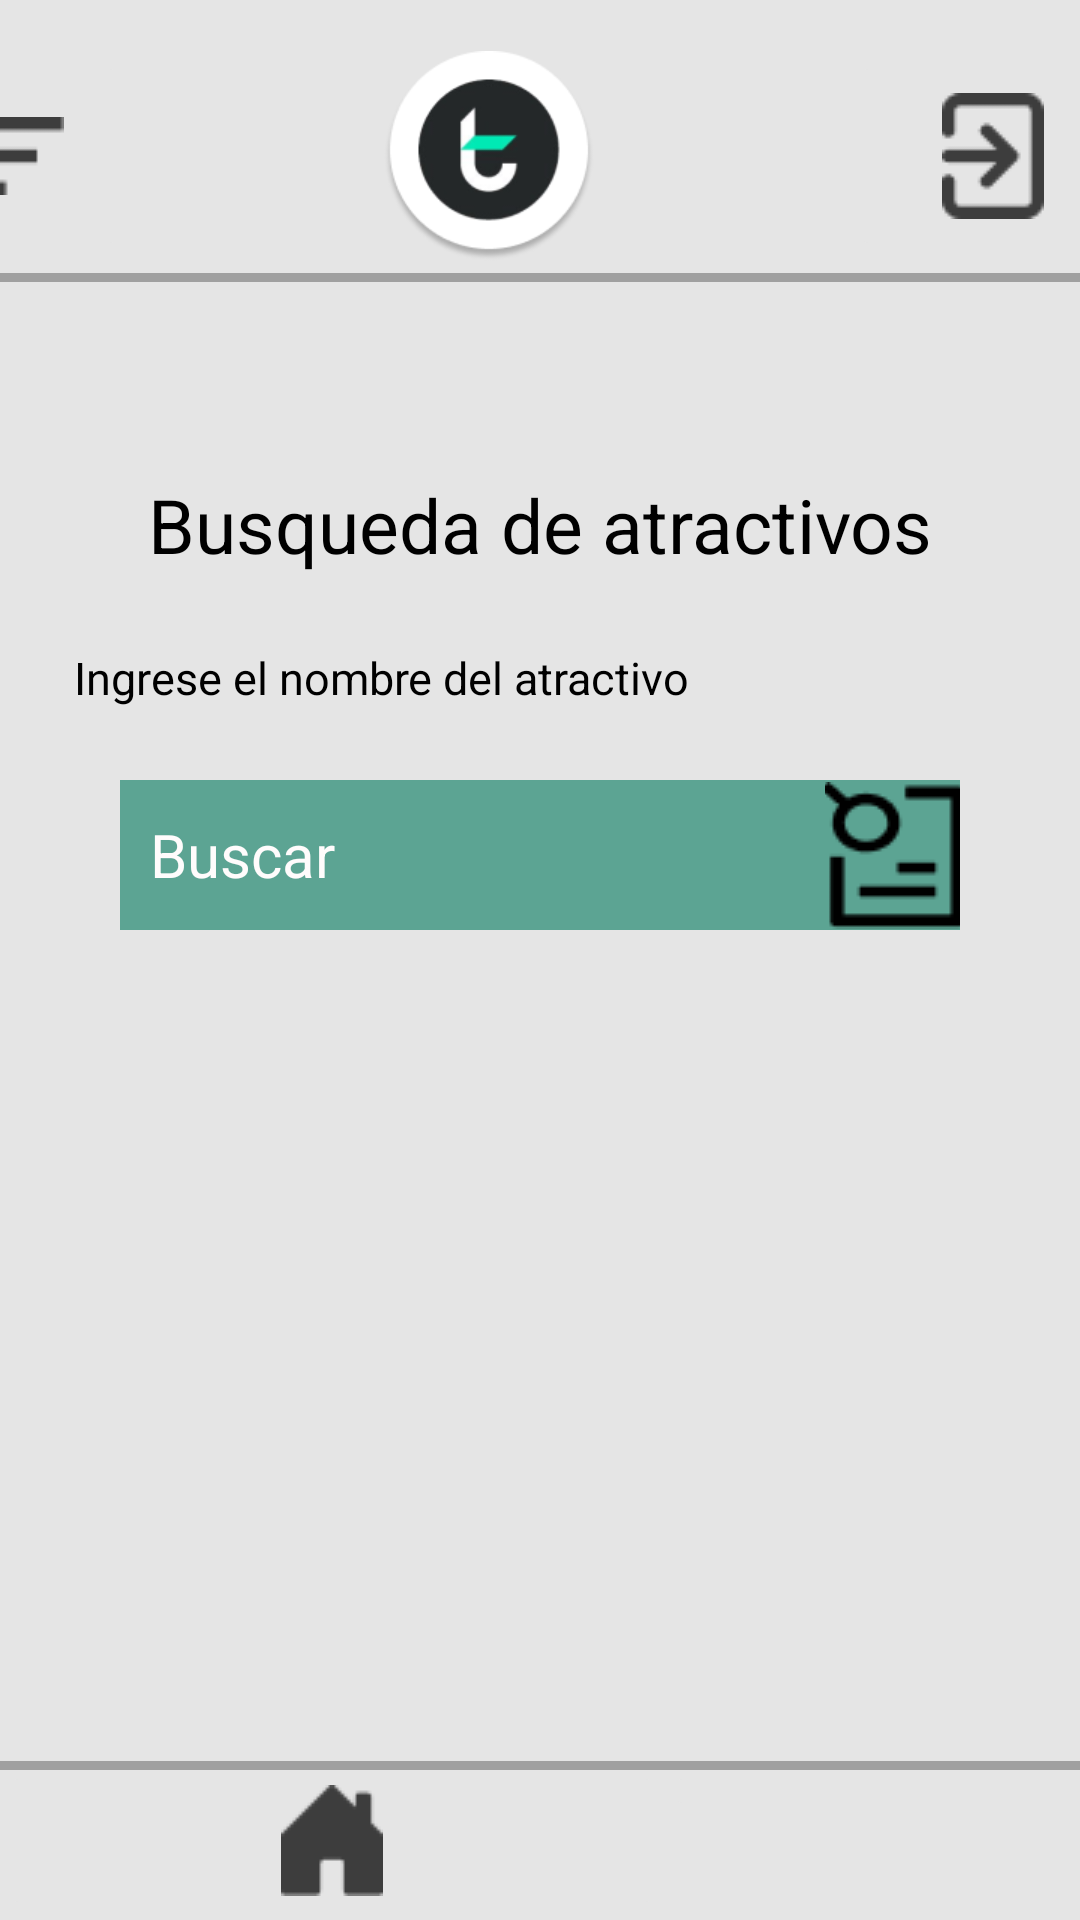

Icon click points for this 1080x1920 phone screenshot, format (x,y):
casa: (332,1840)
search: (892,855)
